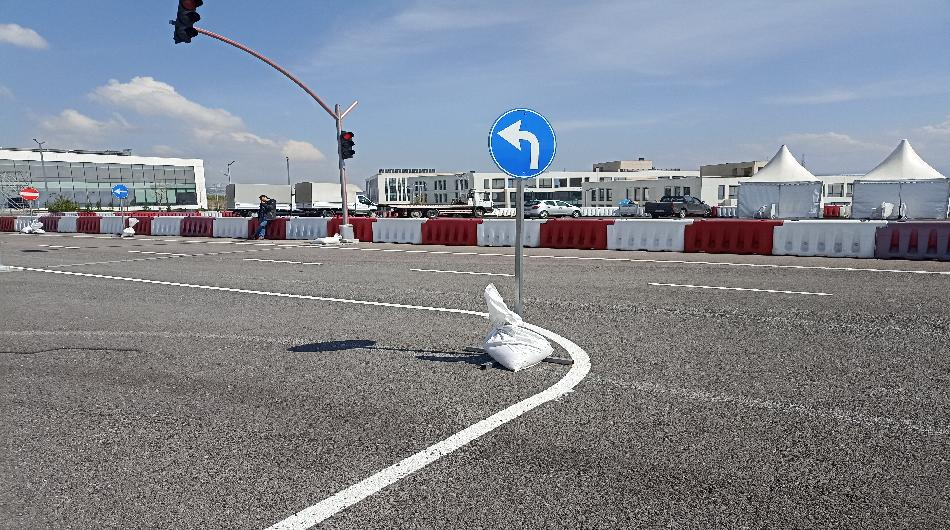girilmez: (15, 183, 44, 202)
saga_mecburi_1: (107, 181, 133, 199)
sola_mecburi_2: (489, 110, 561, 180)
